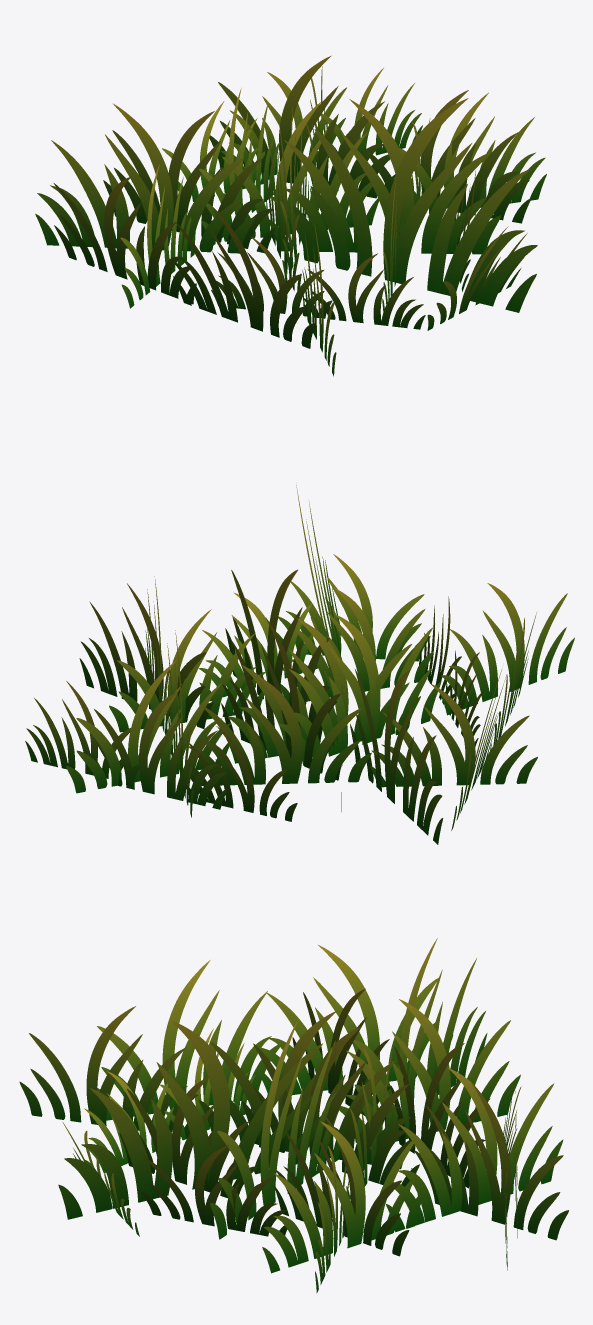
File: high_grass_06.gltf
3 views of the same model, one above another, from view 1: azimuth 30°, elevation 25°; view 2: azimuth 150°, elevation 25°; view 3: azimuth 270°, elevation 25° (orthographic). The views are drawn at different scales.
Parts seen in each view (by area): view 1: default; view 2: default; view 3: default.
Boxes of the visible parts, box(x1,y1,x2,y2) form: default: box(35, 55, 546, 376); default: box(25, 485, 574, 844); default: box(19, 938, 568, 1293).
Size of the model in its own units: 1.91 by 0.7728 by 1.84.
1 material, 1 textured.
